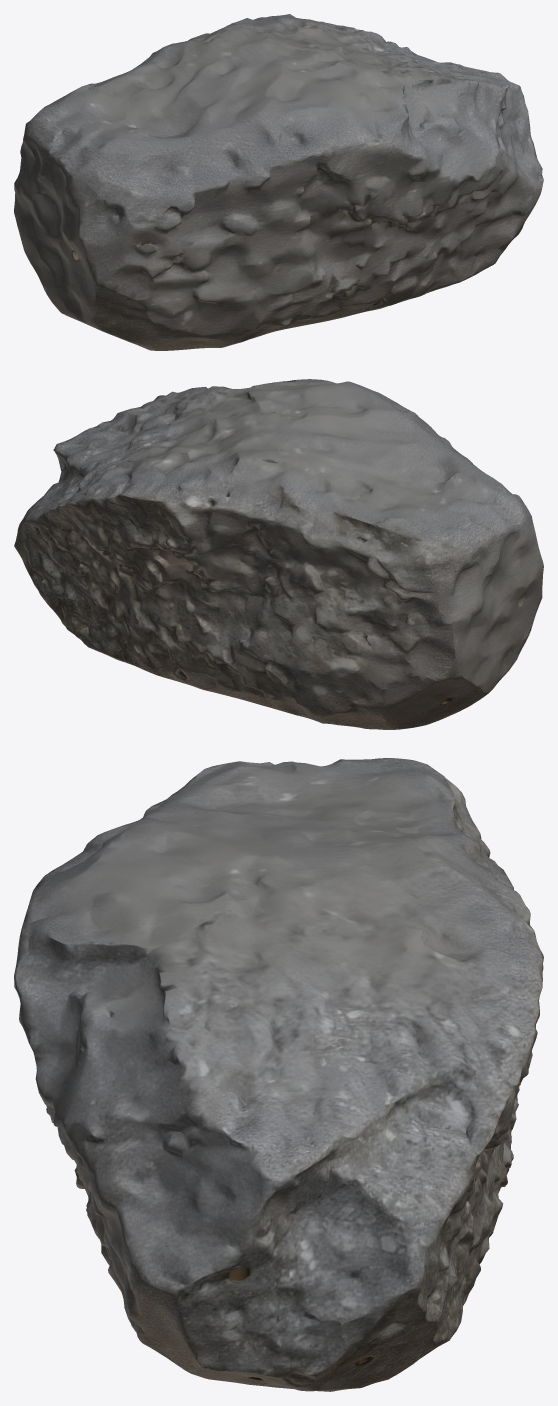
Rendered from rock-rounded-boulder.glb.
3 views of the same model, one above another, from view 1: azimuth 30°, elevation 25°; view 2: azimuth 150°, elevation 25°; view 3: azimuth 270°, elevation 25° (orthographic). The views are drawn at different scales.
Parts seen in each view (by area): view 1: tripo_node_7f51bad5-4237-4417-b29d-79511f07e8b8; view 2: tripo_node_7f51bad5-4237-4417-b29d-79511f07e8b8; view 3: tripo_node_7f51bad5-4237-4417-b29d-79511f07e8b8.
Boxes of the visible parts, x1,y1,x2,y2 form: tripo_node_7f51bad5-4237-4417-b29d-79511f07e8b8: (14, 14, 543, 350); tripo_node_7f51bad5-4237-4417-b29d-79511f07e8b8: (14, 379, 543, 729); tripo_node_7f51bad5-4237-4417-b29d-79511f07e8b8: (14, 758, 543, 1391).
Size of the model in its own units: 1 by 0.5013 by 0.6094.
Materials: 1 (1 with a texture image).
